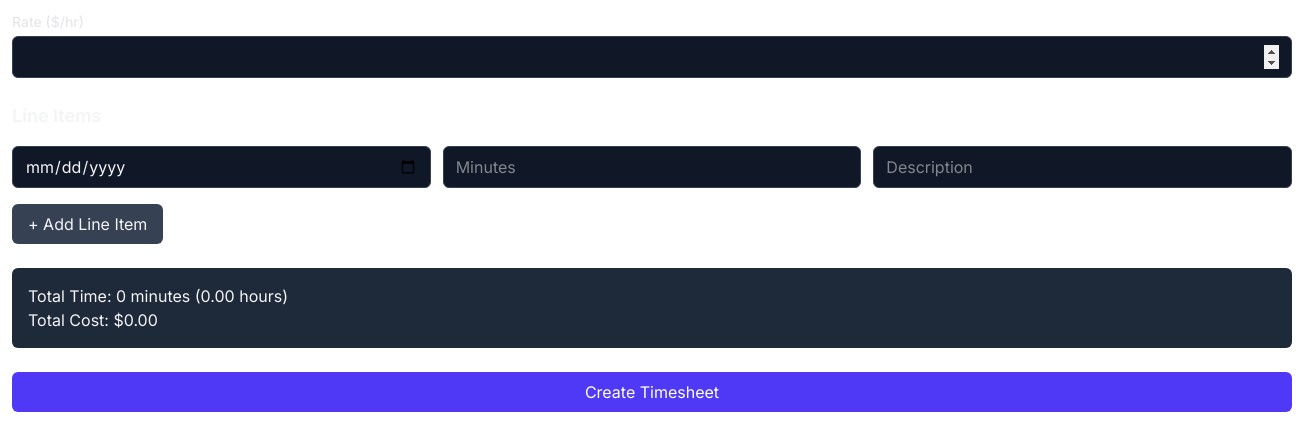
it: TimesheetForm › updates totals when minutes and rate are entered
Note: Enter rate
Type "60" into the number field labelled "Rate ($/hr)".
click(652, 57); type("60")  # box [12, 36, 1292, 78]
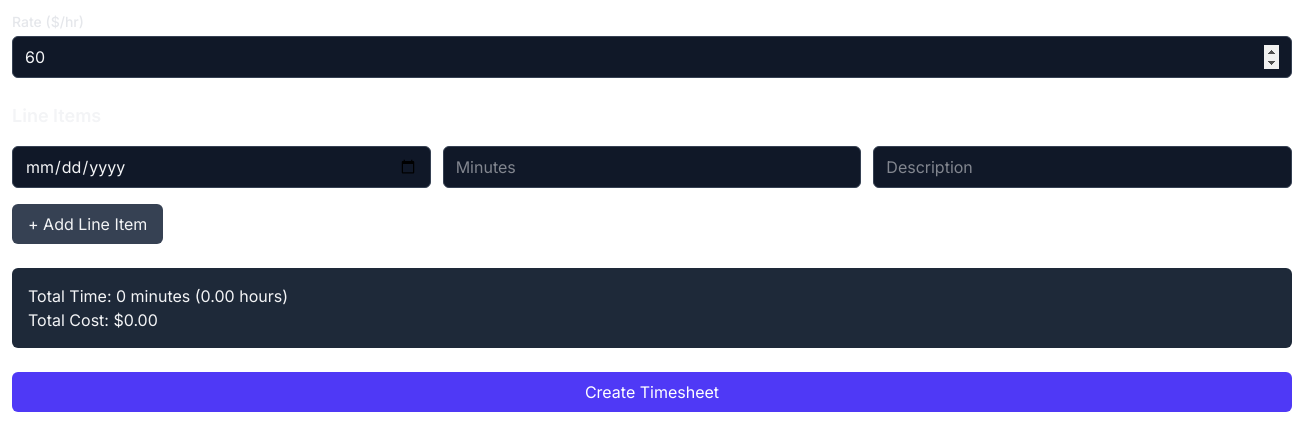
Note: Enter minutes
Type "120" into the number field with placeholder "Minutes".
click(652, 167); type("120")  # box [443, 146, 861, 188]
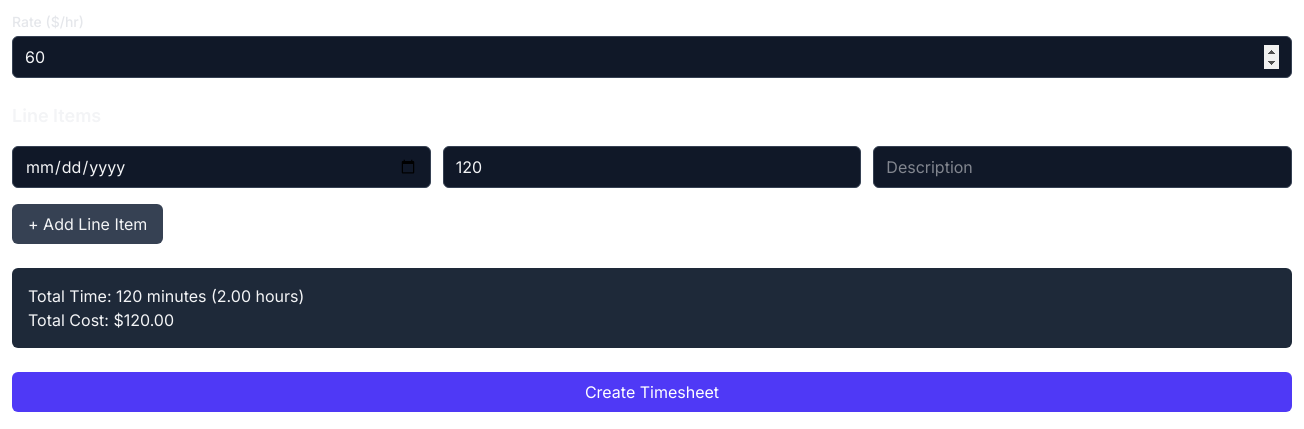
Expected: the text "Total Time: 120 minutes (2.00 hours)" is shown, [28, 286, 304, 306]
Expected: the text "Total Cost: $120.00" is shown, [28, 310, 174, 330]
